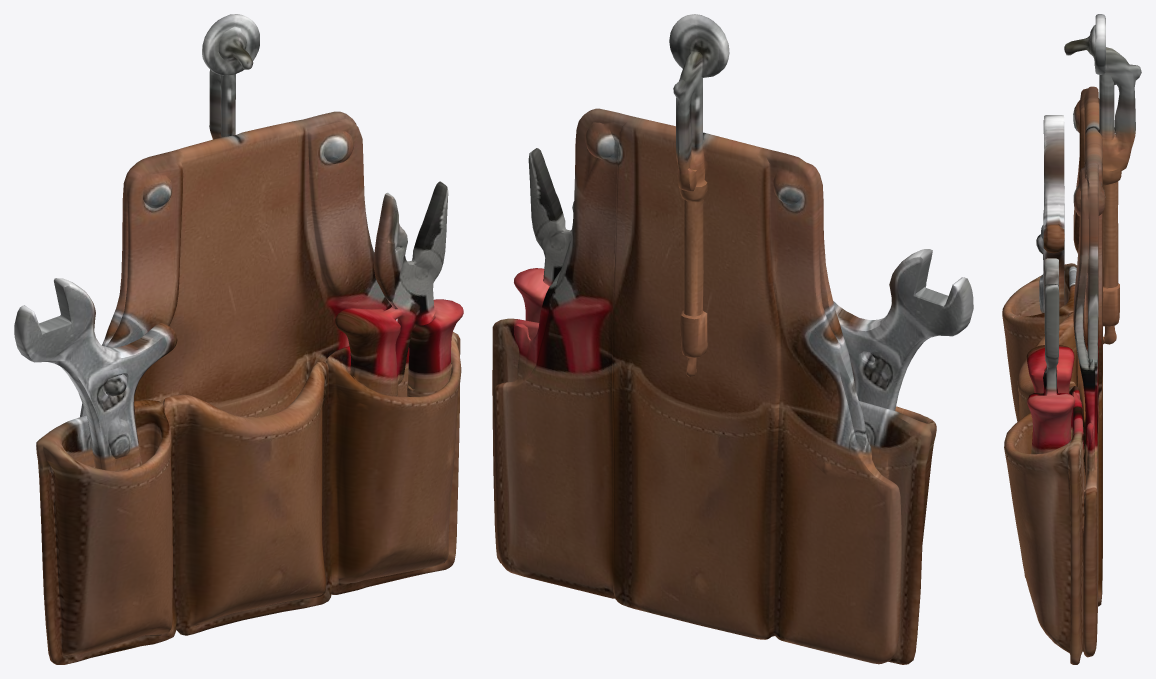
File: cinto-ferramentas-512.glb
3 views of the same model, side by side, from view 1: azimuth 30°, elevation 25°; view 2: azimuth 150°, elevation 25°; view 3: azimuth 270°, elevation 25° (orthographic). The views are drawn at different scales.
Parts seen in each view (by area): view 1: cinto-ferramentas; view 2: cinto-ferramentas; view 3: cinto-ferramentas.
Part boxes in pixels (left/top/right/bottom): cinto-ferramentas: left=14, top=14, right=463, bottom=664; cinto-ferramentas: left=492, top=14, right=973, bottom=664; cinto-ferramentas: left=1002, top=14, right=1141, bottom=664.
Bounding box in the file's own units: 0.476 × 0.6 × 0.1353.
1 material, 1 textured.
